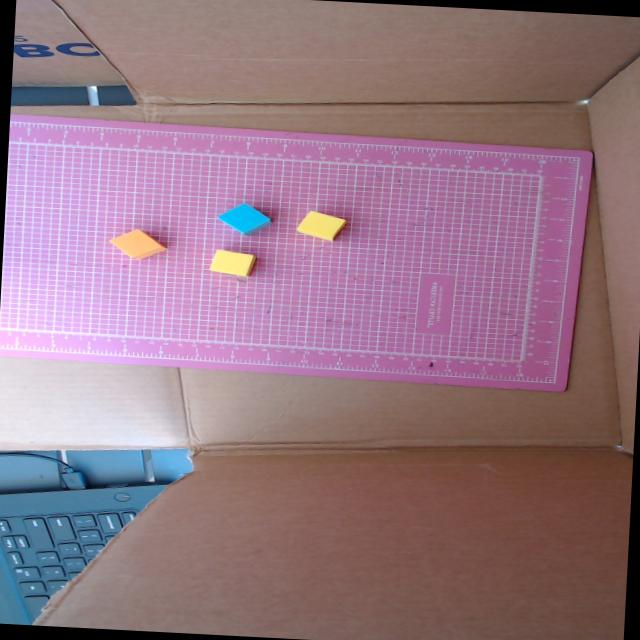bluecube: (218, 203, 271, 234)
orangecube: (109, 228, 167, 259)
yellowcube: (297, 210, 346, 240), (209, 249, 256, 276)
